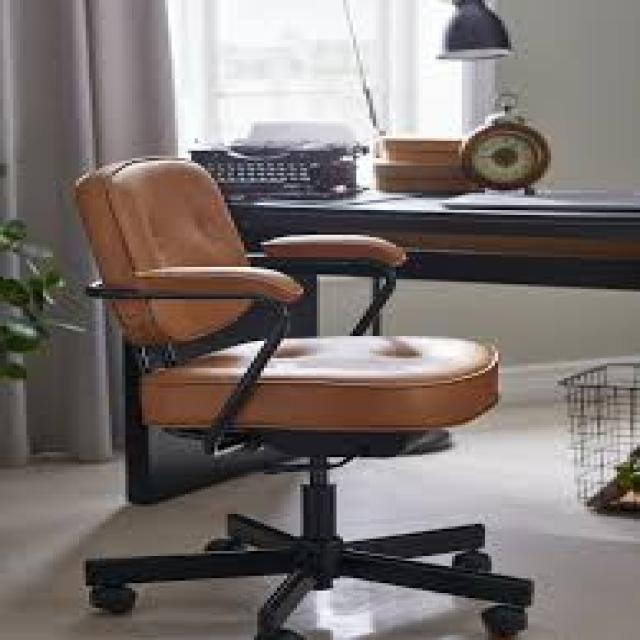chair: (31, 130, 550, 640)
